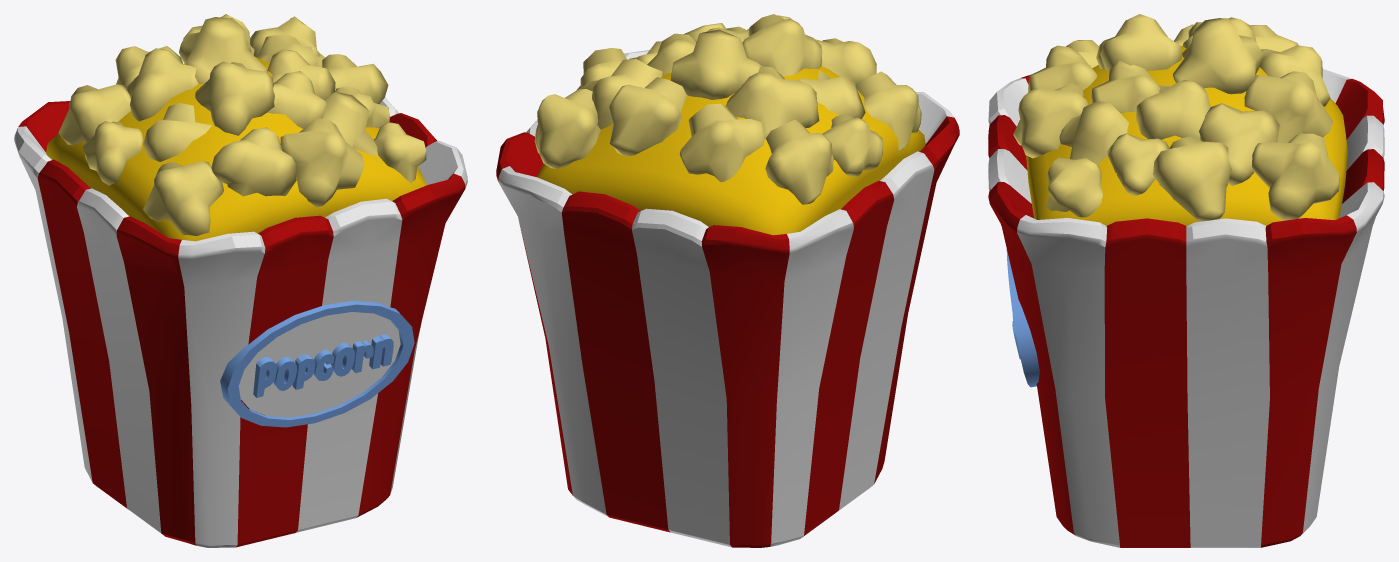
3 renders of one model, left to right at view 1: azimuth 30°, elevation 25°; view 2: azimuth 150°, elevation 25°; view 3: azimuth 270°, elevation 25°, orthographic. The views are drawn at different scales.
Visible parts, largest first — view 1: part1_lv10_white1, part1_lv10_red, part1_lv10_yellow, part1_lv10_orange, part1_lv10_white2, part1_lv10_blue1, part1_lv10_blue2; view 2: part1_lv10_red, part1_lv10_white1, part1_lv10_yellow, part1_lv10_orange; view 3: part1_lv10_red, part1_lv10_white1, part1_lv10_yellow, part1_lv10_orange, part1_lv10_blue1.
Part boxes in pixels (x1,y1,x2,y2): part1_lv10_white1: [18, 101, 465, 547]; part1_lv10_red: [14, 97, 467, 547]; part1_lv10_yellow: [58, 14, 426, 235]; part1_lv10_orange: [46, 57, 426, 241]; part1_lv10_white2: [238, 312, 400, 417]; part1_lv10_blue1: [220, 301, 414, 427]; part1_lv10_blue2: [253, 334, 393, 397]; part1_lv10_red: [498, 50, 954, 547]; part1_lv10_white1: [496, 116, 959, 547]; part1_lv10_yellow: [534, 14, 921, 204]; part1_lv10_orange: [537, 66, 925, 235]; part1_lv10_red: [988, 69, 1384, 547]; part1_lv10_white1: [988, 74, 1384, 547]; part1_lv10_yellow: [1013, 14, 1339, 221]; part1_lv10_orange: [1026, 45, 1347, 225]; part1_lv10_blue1: [1006, 249, 1039, 387].
Bounding box in the file's own units: 21.45 × 28.73 × 21.62.
